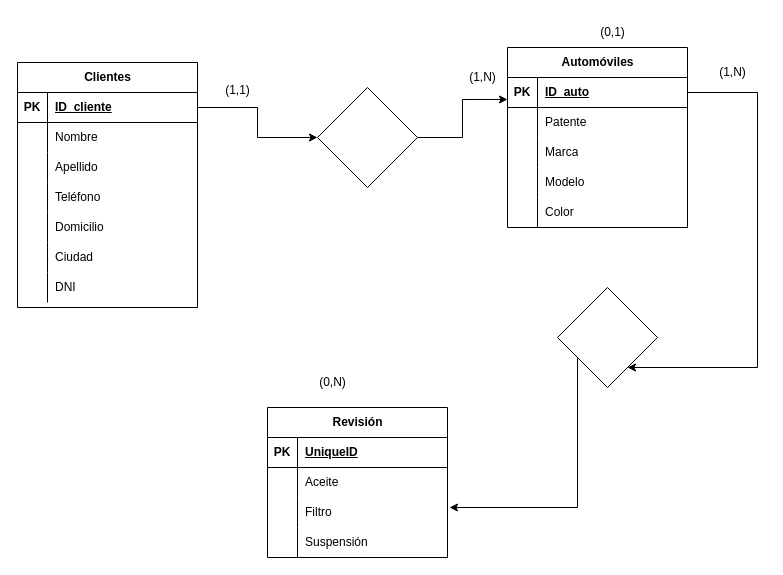
Image size: 783x575. Some labels were removed from this diagram. The centre of each missing label's shape, as x and y in pixels:
"Compra" belongs at (x=367, y=137).
"Realiza" belongs at (x=607, y=337).
